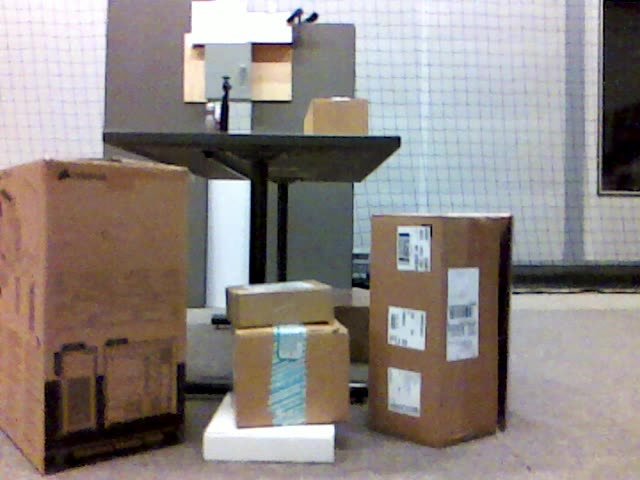box: (2, 156, 189, 473), (372, 211, 509, 448), (234, 320, 350, 430), (227, 282, 335, 325), (302, 100, 371, 137)
